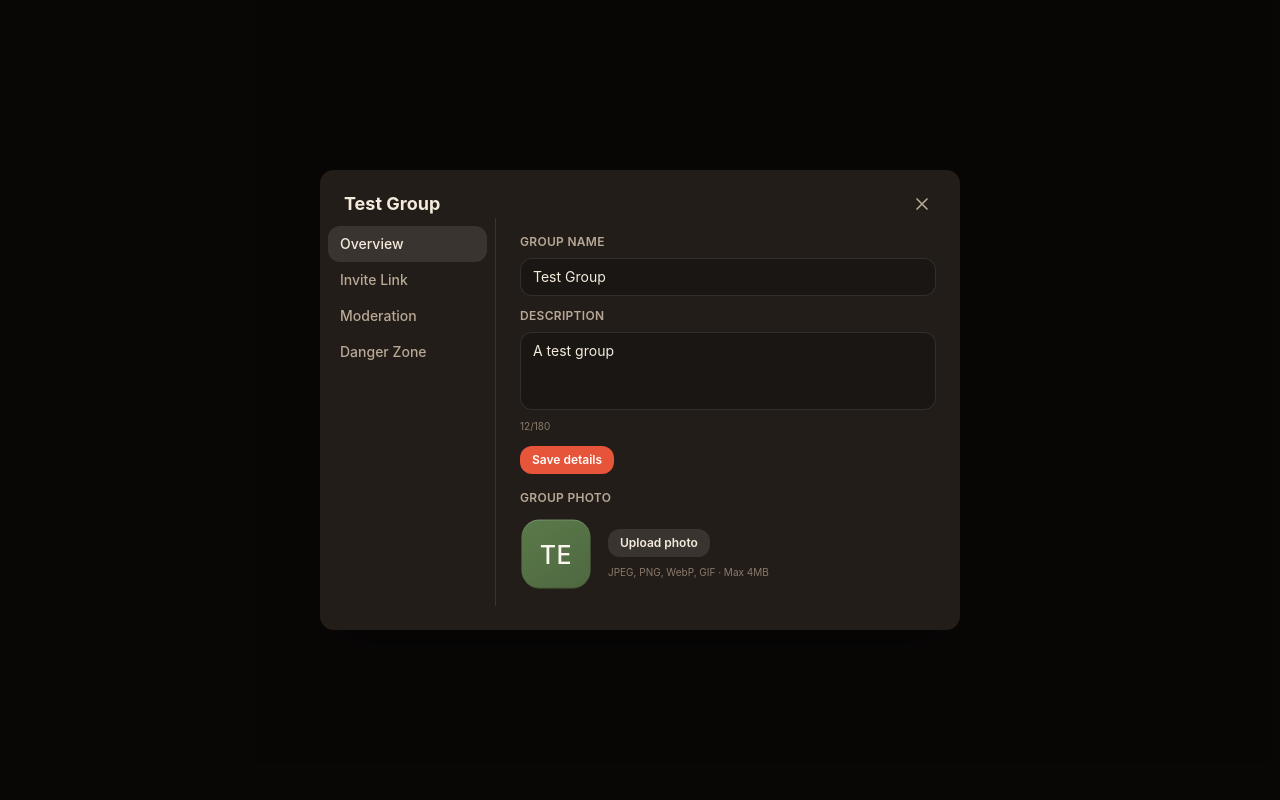
Test case: GroupSettingsModal › shows invite metadata and recent usage for owners
Click the button with test id "nav-invite": {"x": 408, "y": 280} left=328, top=262, right=487, bottom=298
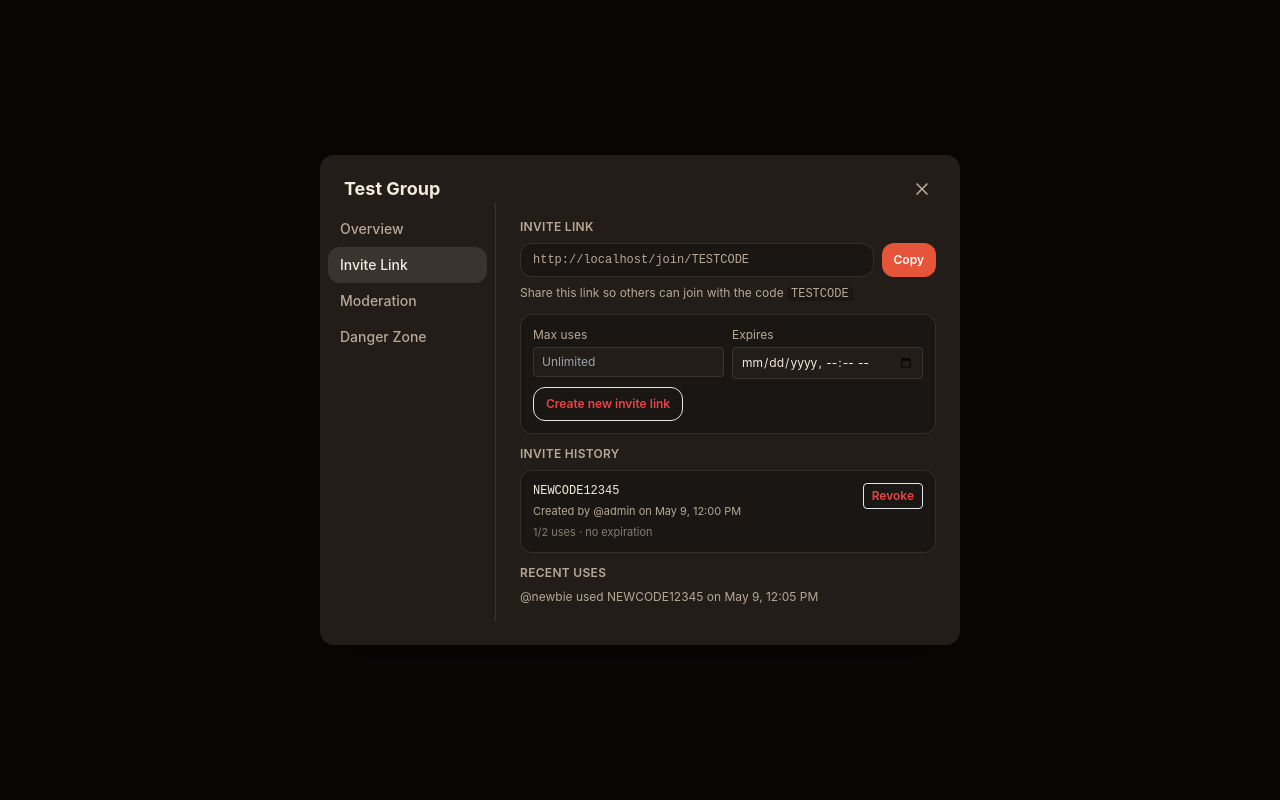
expect the text "Created by @admin on May 9, 12:00 PM" is shown: met, box left=533, top=503, right=741, bottom=520
expect the text "1/2 uses · no expiration" is shown: met, box left=533, top=524, right=653, bottom=538
expect the text "@newbie used NEWCODE12345 on May 9, 12:05 PM" is shown: met, box left=520, top=589, right=818, bottom=604
